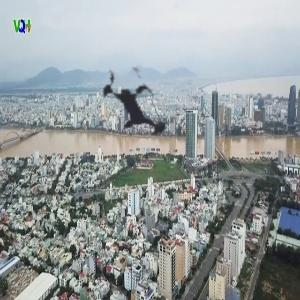drone: (68, 39, 201, 172)
